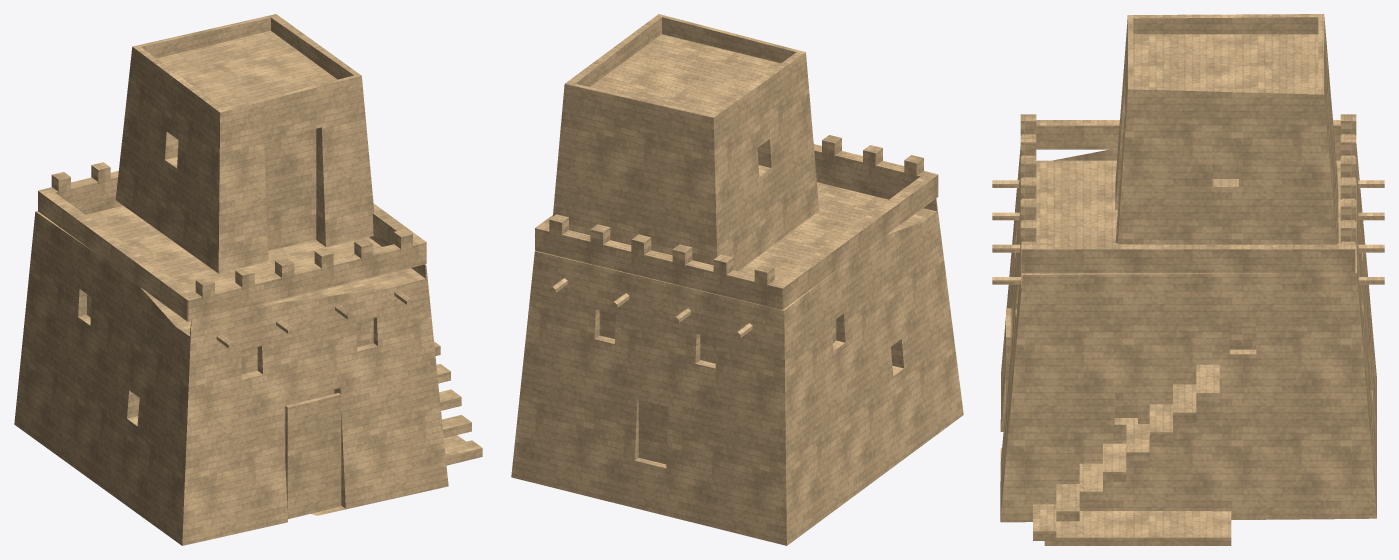
Rendered from house-b.glb.
3 views of the same model, side by side, from view 1: azimuth 30°, elevation 25°; view 2: azimuth 150°, elevation 25°; view 3: azimuth 270°, elevation 25° (orthographic). The views are drawn at different scales.
Visible parts, largest first — view 1: house-b; view 2: house-b; view 3: house-b.
Boxes of the visible parts, left/top/right/bottom form: house-b: left=14, top=14, right=482, bottom=545; house-b: left=511, top=14, right=963, bottom=545; house-b: left=992, top=14, right=1384, bottom=545.
Bounding box in the file's own units: 5.19 × 5.92 × 5.04.
Materials: 1 (1 with a texture image).
